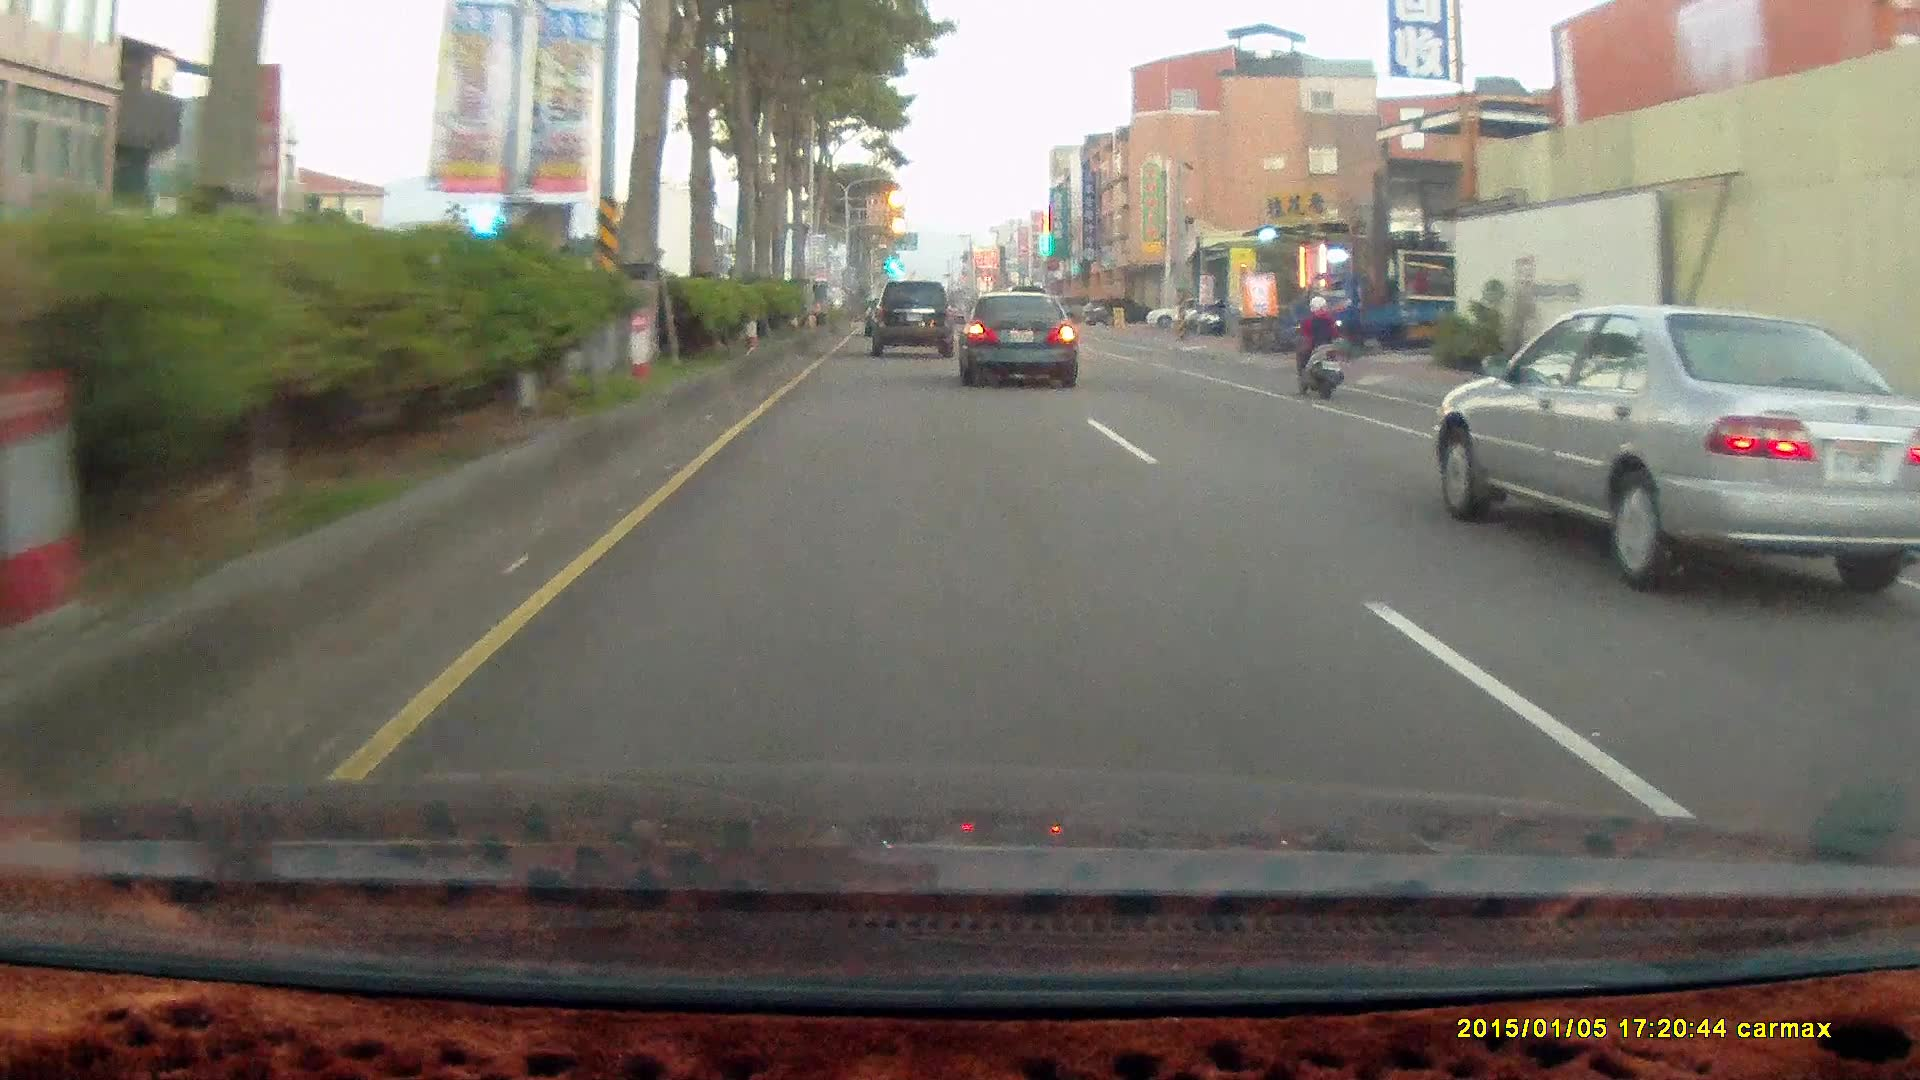rider: (1284, 287, 1357, 409), (1289, 288, 1346, 396)
vehicle: (1436, 304, 1920, 595), (1436, 304, 1920, 583), (1293, 268, 1511, 359), (1298, 269, 1461, 351), (951, 286, 1077, 385), (964, 295, 1088, 388), (870, 282, 955, 355), (873, 282, 958, 354), (1145, 296, 1212, 326), (1088, 296, 1153, 323)
